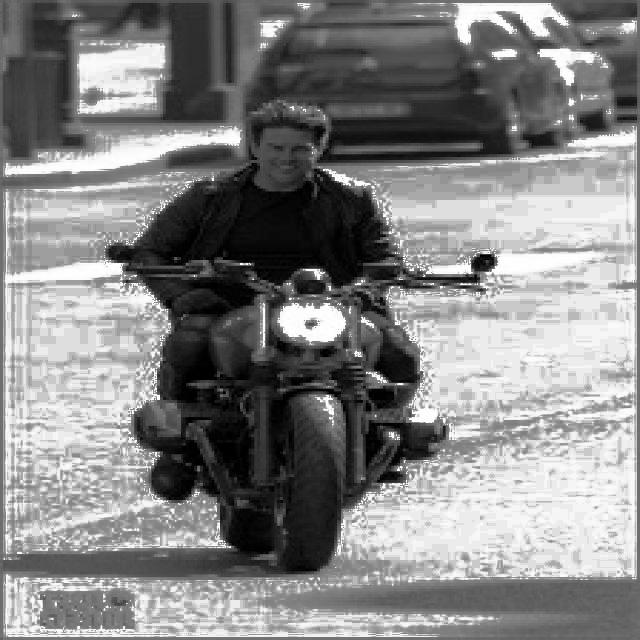Bike: (147, 249, 410, 575)
